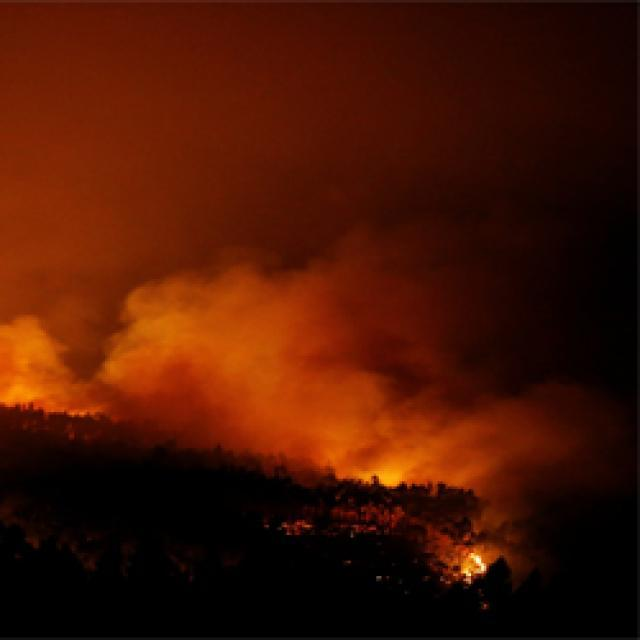Fire: (458, 550, 484, 584)
Smoke: (0, 0, 604, 486), (452, 488, 545, 550)
